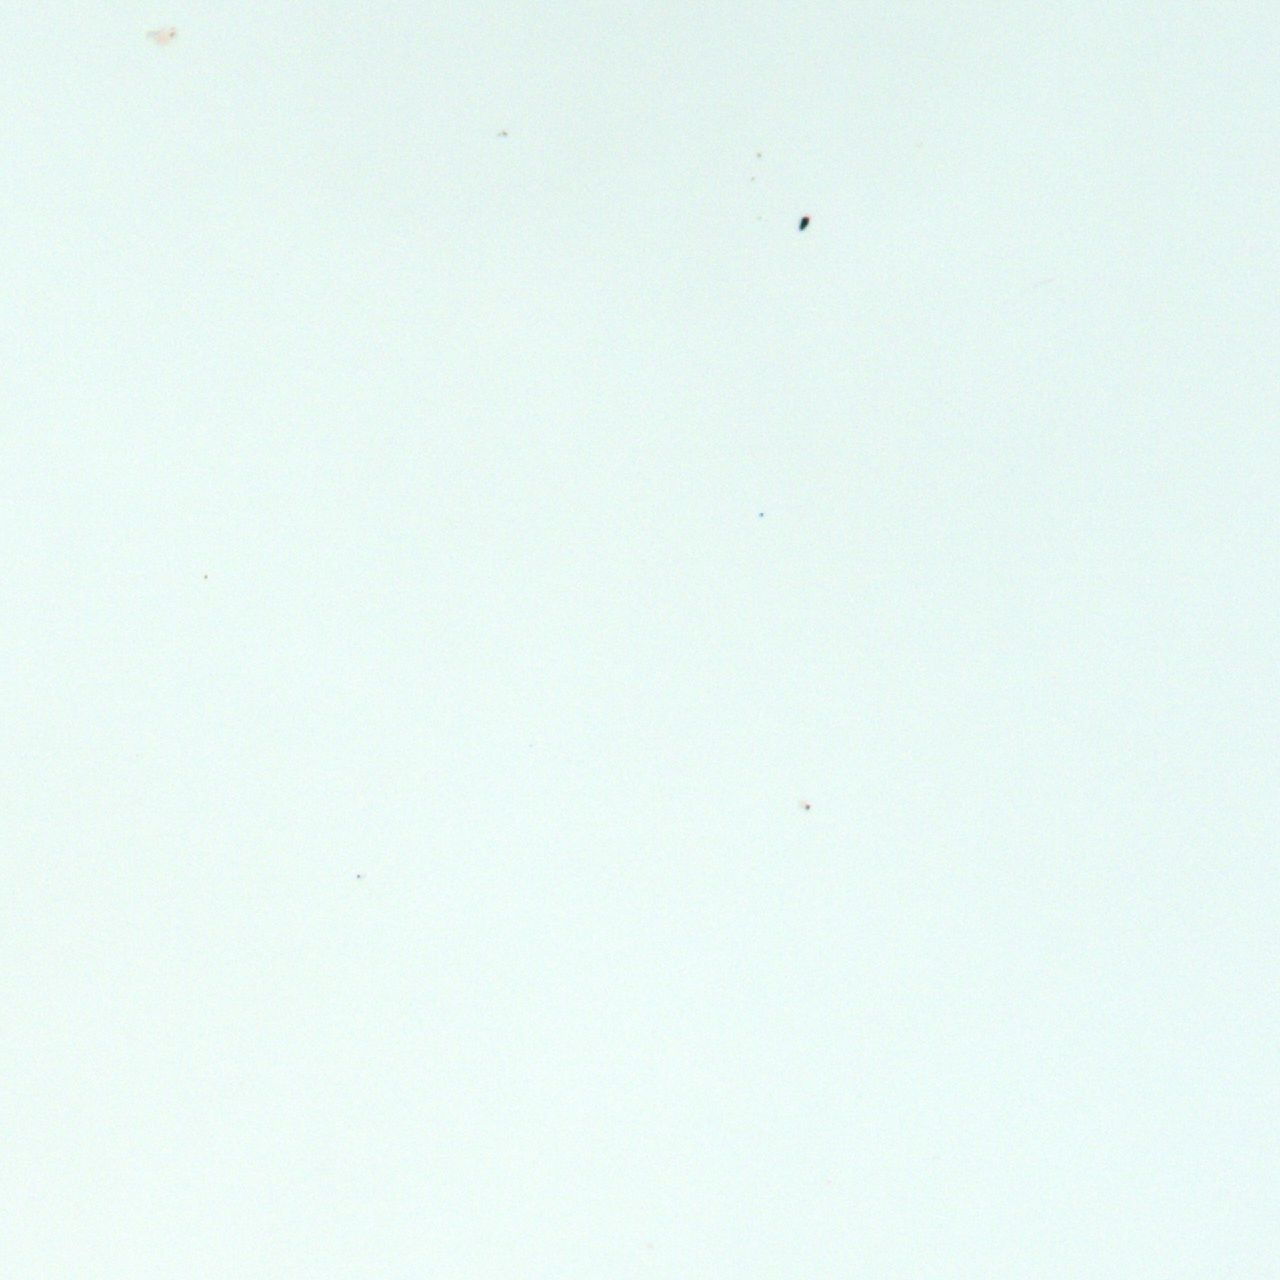dust: (796, 213, 811, 232), (498, 130, 508, 137), (804, 803, 809, 809), (204, 574, 207, 578), (760, 513, 763, 516)
